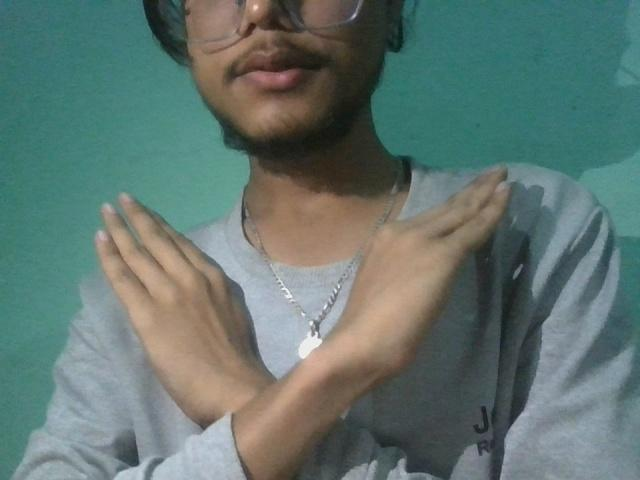dont: (85, 165, 527, 422)
